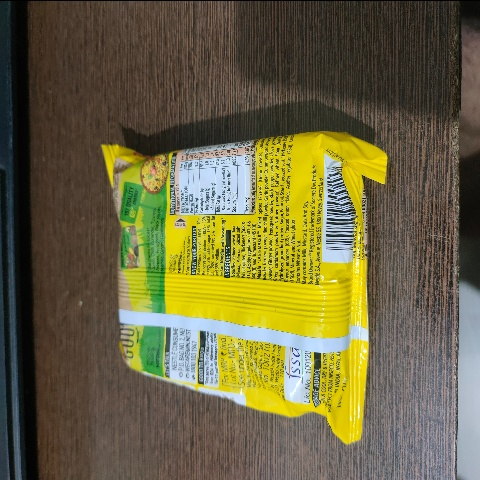maggi: (83, 119, 417, 452)
